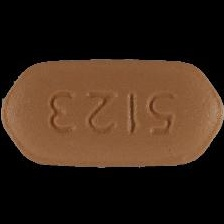55154-1831: (0, 0, 224, 224)
